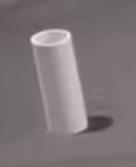coral: (29, 28, 89, 135)
